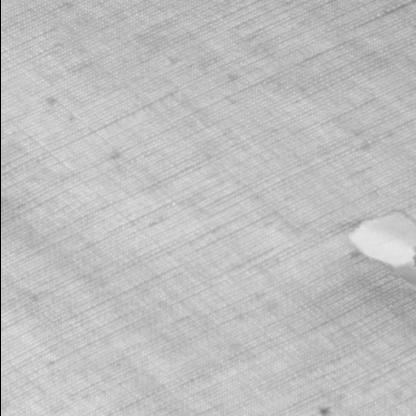objects: (344, 209, 416, 288)
